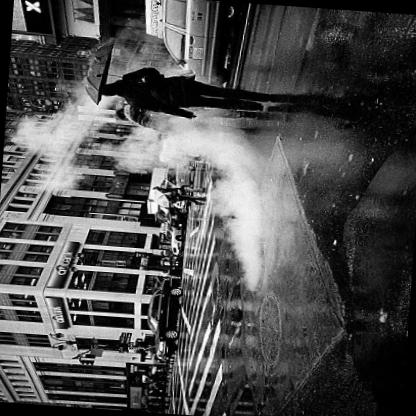manholes: (243, 286, 299, 368)
